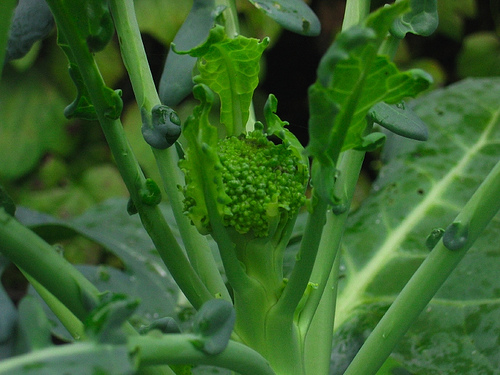broccoli: (175, 134, 308, 239)
